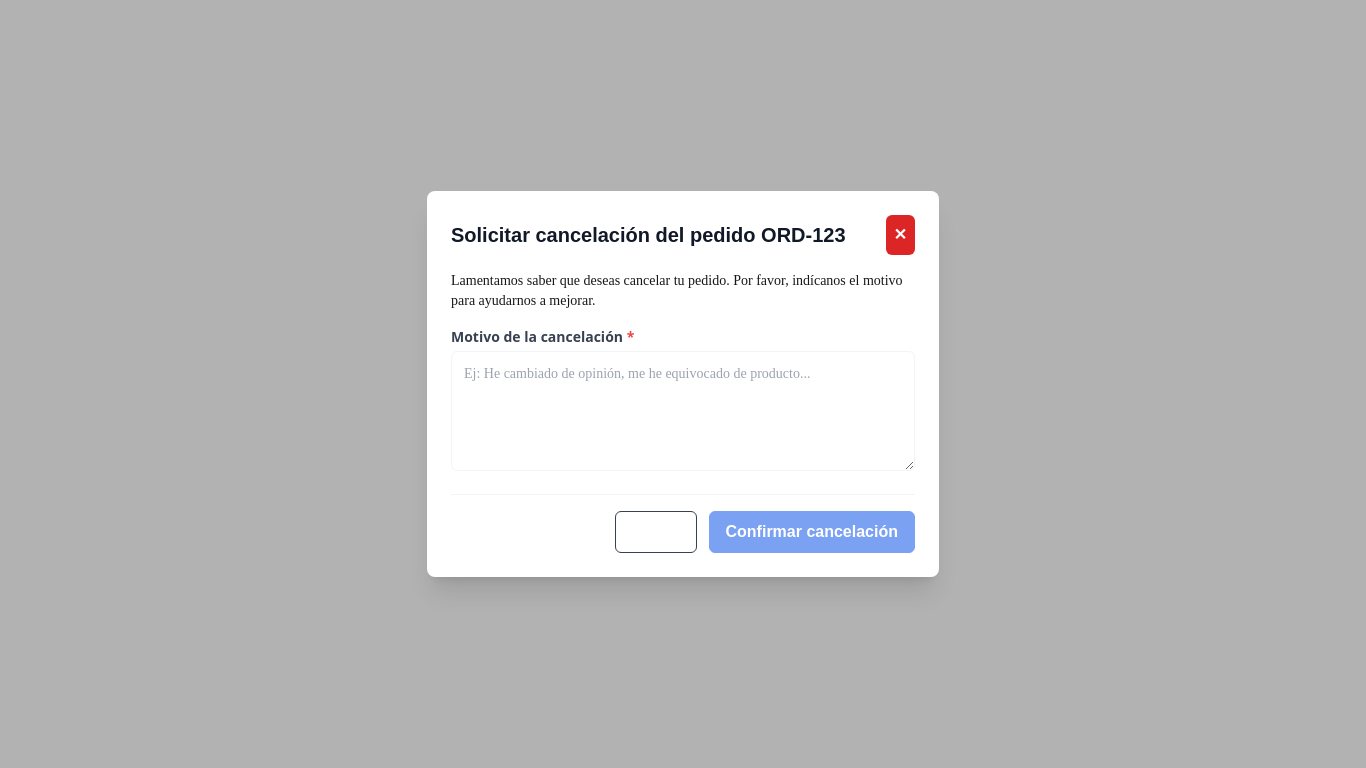
Test case: CancelOrderModal Component › enables submit button when reason is provided
The width and height of the screenshot is (1366, 768).
Step 1. Type "Quiero cancelar mi pedido porque me equivoqué de reloj." into the text box labelled "Motivo de la cancelación *" → (683, 411), box [451,351,915,471]
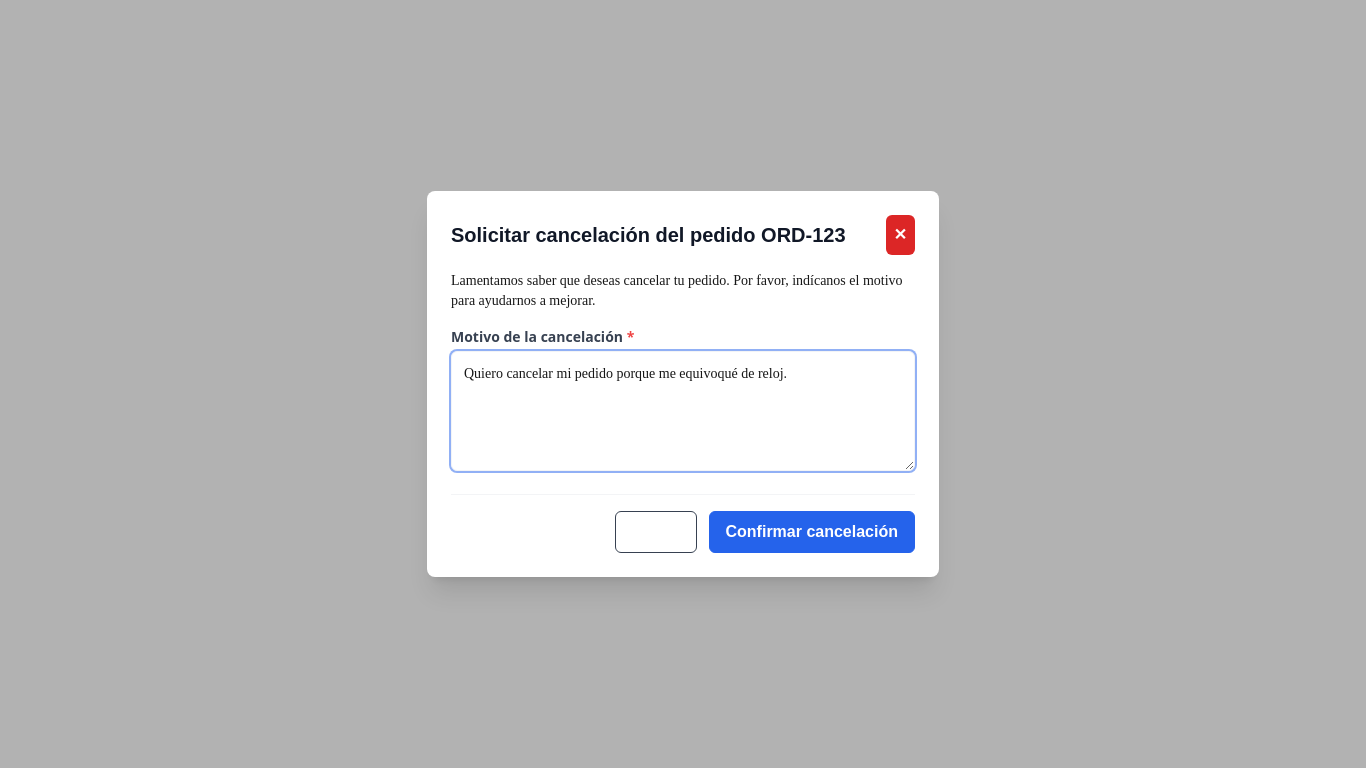
Check: the button "Confirmar cancelación" is enabled, box [708,511,915,553]
